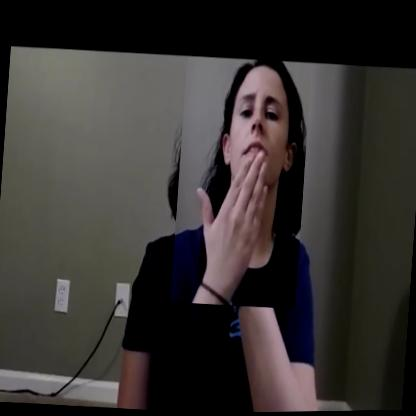ThankYou: (170, 52, 312, 312)
